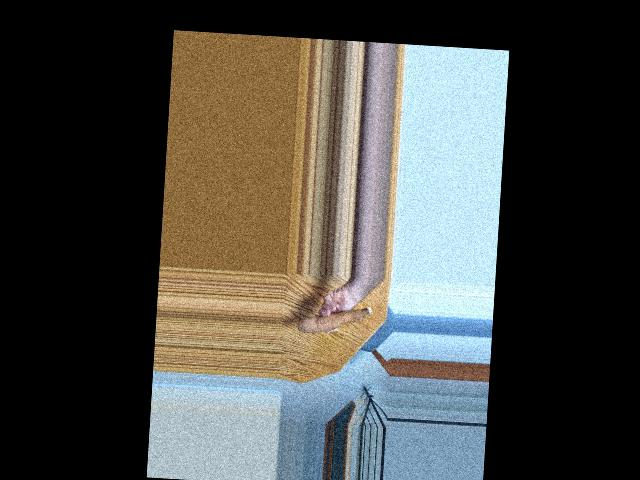sweet_potato: (300, 295, 371, 340)
